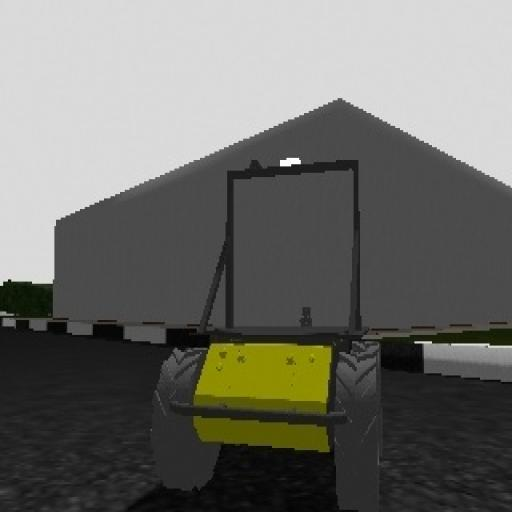huskya200: (155, 163, 386, 494)
